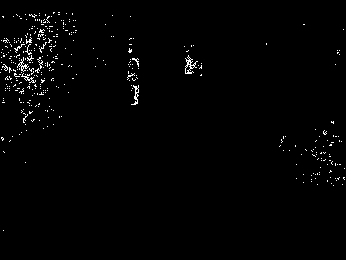person: (126, 56, 140, 107)
